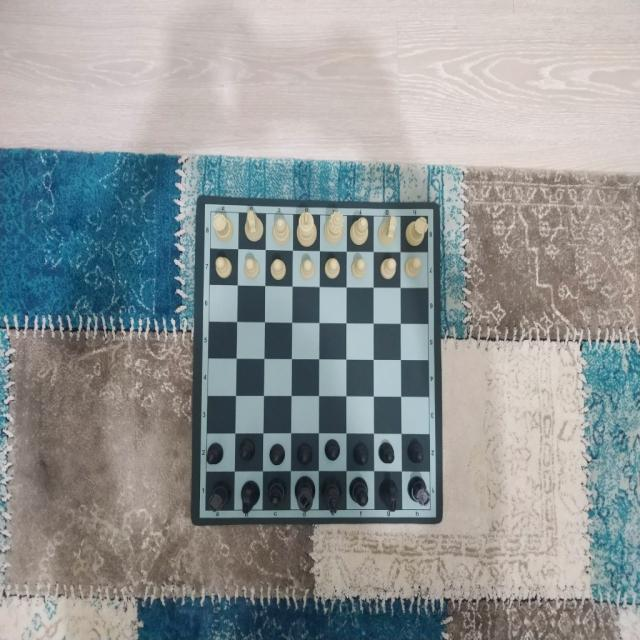chess-table-corners: (421, 207, 435, 226), (198, 503, 212, 518), (426, 501, 436, 517), (207, 205, 216, 219)
